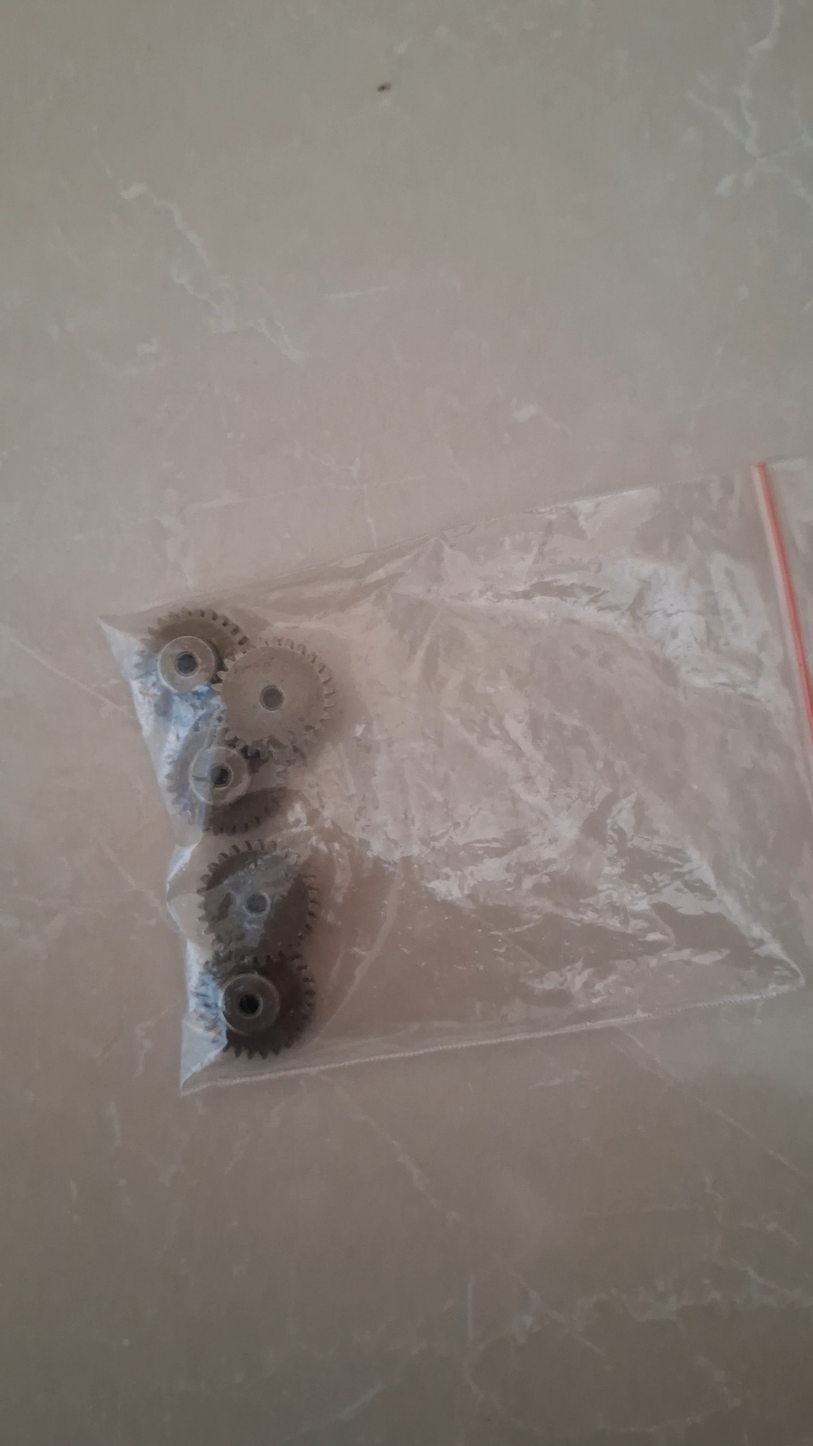spur gear: (166, 708, 284, 835), (215, 639, 333, 760), (198, 841, 317, 955), (211, 952, 315, 1057), (144, 609, 249, 693)
